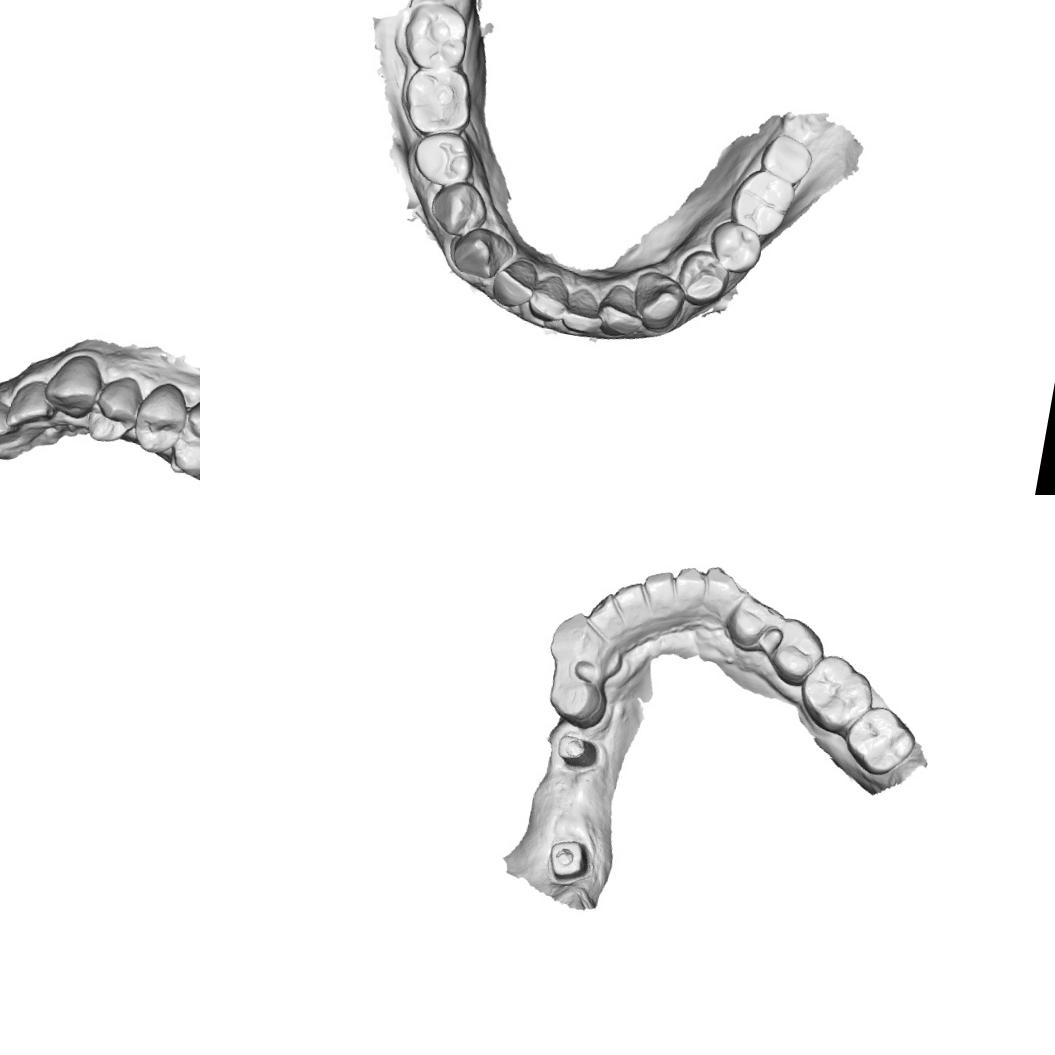abutment: (538, 832, 599, 892), (551, 726, 604, 774)
canine: (39, 346, 110, 422), (542, 606, 611, 674), (447, 222, 515, 286), (628, 264, 687, 330), (697, 563, 749, 622)
incisor: (0, 374, 59, 435), (596, 278, 649, 340), (488, 252, 540, 312), (523, 270, 571, 324), (560, 286, 604, 336), (670, 564, 710, 605), (639, 567, 675, 608), (611, 578, 645, 615), (584, 589, 618, 626), (0, 393, 20, 443)
molar: (793, 650, 879, 739), (395, 58, 481, 142), (839, 700, 920, 780), (397, 0, 475, 76), (724, 166, 800, 239), (754, 126, 815, 184), (165, 392, 200, 491)
premolar: (126, 375, 196, 461), (80, 367, 147, 448), (764, 614, 829, 690), (410, 126, 478, 190), (542, 671, 612, 732), (425, 174, 490, 238), (670, 242, 732, 309), (721, 590, 783, 656), (708, 216, 764, 276)
